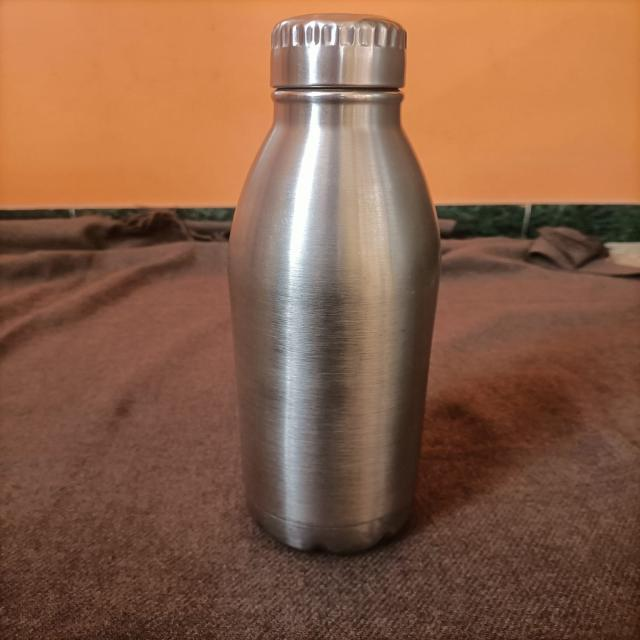bottle: (154, 1, 501, 583)
